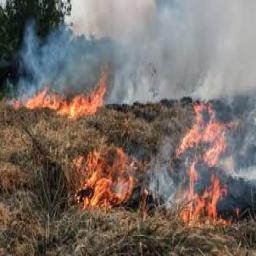Small fire: (176, 100, 237, 225), (70, 141, 153, 210), (12, 68, 113, 117)
